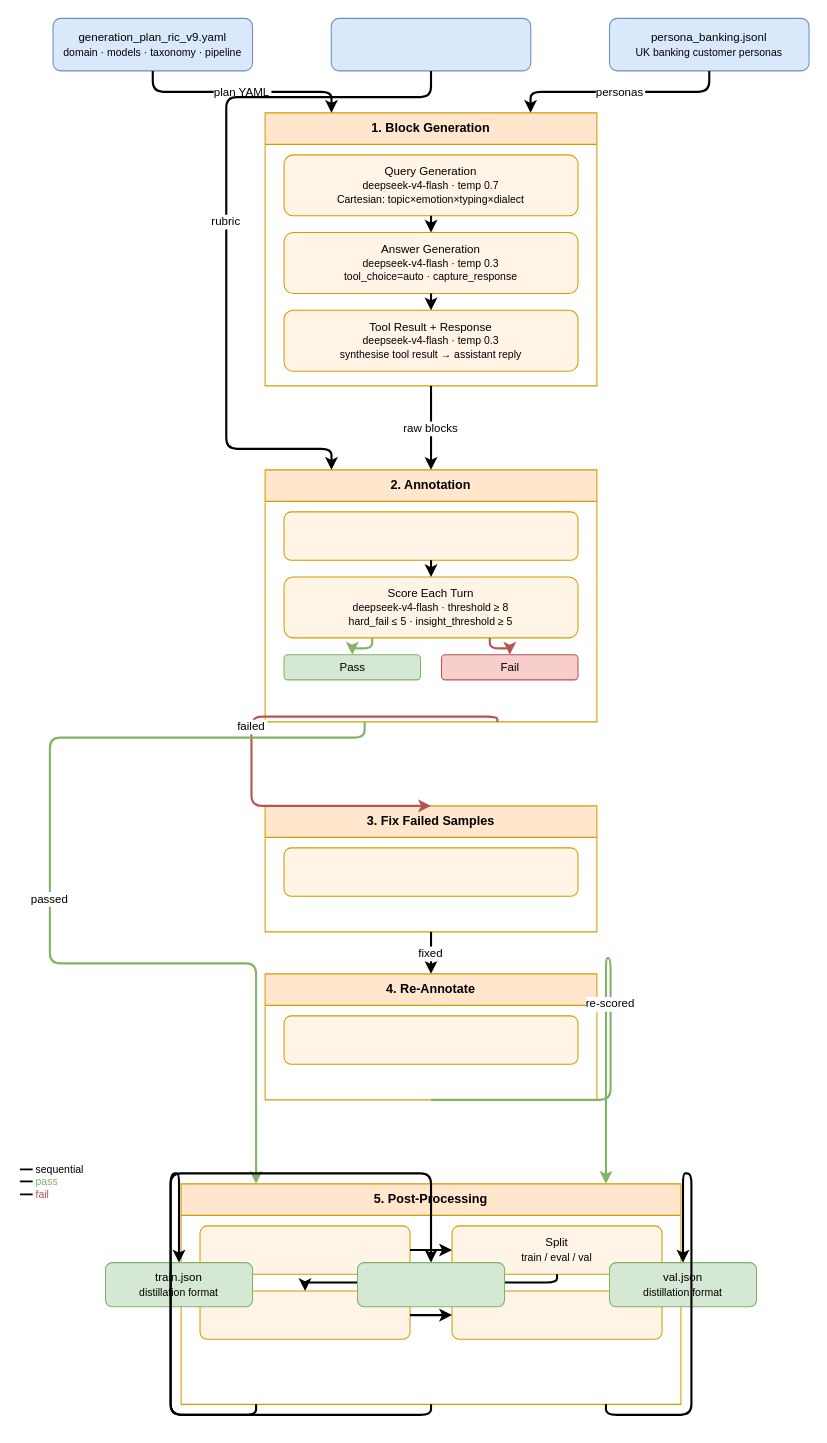
Image size: 827x1443. Some labels were removed from this diagram. Each missing label, with the centre of its shape:
Analysis balance · coverage · contamination: the point at 556,1314
annotator_rubric_blocks.yaml metrics per turn type · hard-fail rules: the point at 430,44
Assemble Blocks 2-3 blocks/conv · transition weights: the point at 304,1249
Dedup + Schema Validate normalise speakable · remove truncated: the point at 430,535
eval.json benchmark format: the point at 430,1284
Re-score Fixed Samples same rubric · merge with passing: the point at 430,1039
Rebalance tool:text ratio · category balance: the point at 304,1314
Rewrite Failing Turns deepseek-v4-flash · reground tool calls: the point at 430,871
